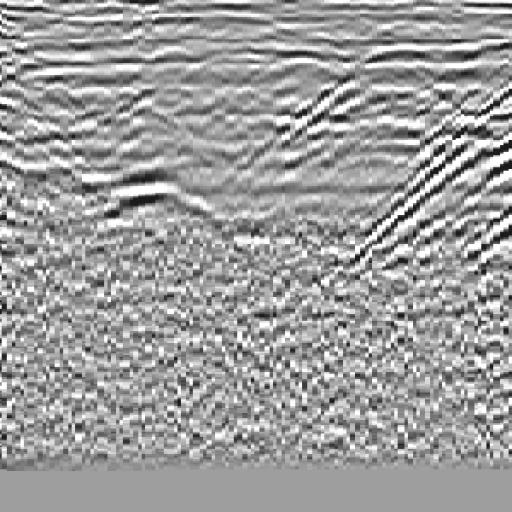metalic: (85, 38, 226, 269)
nonmetalic: (334, 43, 512, 285)
